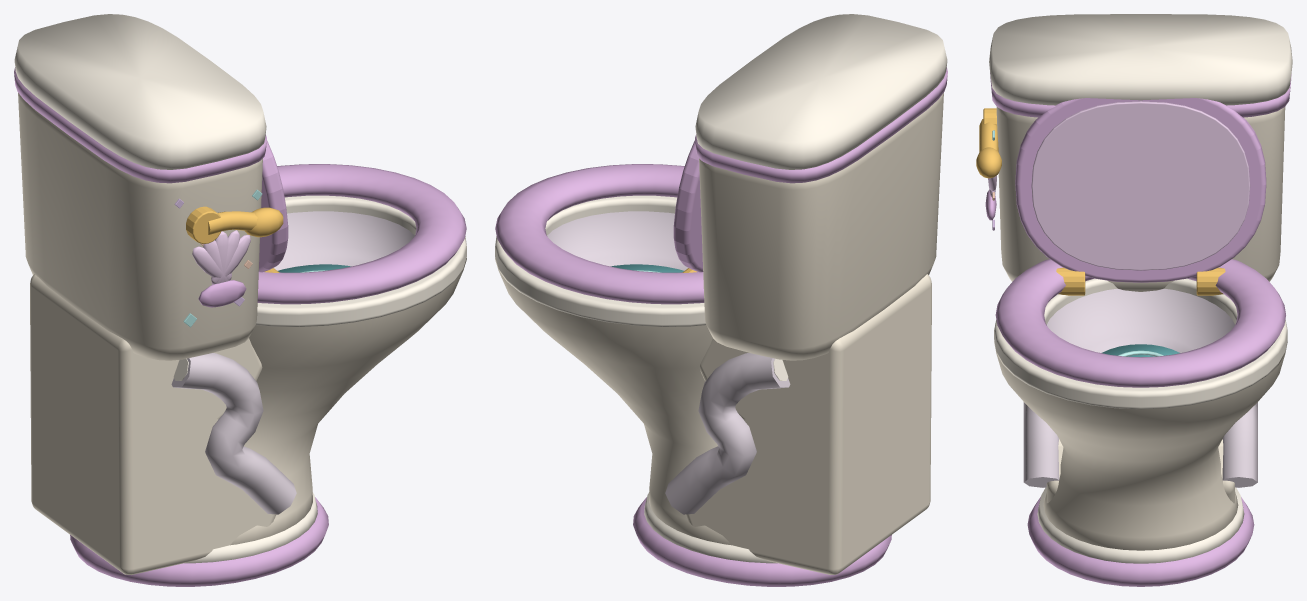
File: bathroom_toilet.glb
3 views of the same model, side by side, from view 1: azimuth 30°, elevation 25°; view 2: azimuth 150°, elevation 25°; view 3: azimuth 270°, elevation 25° (orthographic). The views are drawn at different scales.
Visible parts, largest first — view 1: ToiletPorcelain_Main, ToiletPorcelain_Trim, ToiletSeat_Main, ToiletPorcelain_Inner, ToiletMetal_Main, ToiletSeat_Detail; view 2: ToiletPorcelain_Main, ToiletPorcelain_Trim, ToiletSeat_Main, ToiletPorcelain_Inner; view 3: ToiletPorcelain_Trim, ToiletPorcelain_Main, ToiletSeat_Main, ToiletSeat_Detail, ToiletPorcelain_Inner, ToiletMetal_Main, ToiletWater_Main.
Boxes of the visible parts, x1,y1,x2,y2 form: ToiletPorcelain_Main: (18,93,466,574); ToiletPorcelain_Trim: (14,14,466,563); ToiletSeat_Main: (14,67,466,586); ToiletPorcelain_Inner: (171,211,414,514); ToiletMetal_Main: (186,206,283,272); ToiletSeat_Detail: (192,230,250,284); ToiletPorcelain_Main: (495,93,943,574); ToiletPorcelain_Trim: (495,14,947,563); ToiletSeat_Main: (495,67,947,586); ToiletPorcelain_Inner: (547,211,790,514); ToiletPorcelain_Trim: (989,14,1292,563); ToiletPorcelain_Main: (994,107,1287,550); ToiletSeat_Main: (985,73,1291,586); ToiletSeat_Detail: (988,101,1250,270); ToiletPorcelain_Inner: (1023,288,1257,487); ToiletMetal_Main: (976,108,1225,295); ToiletWater_Main: (1102,344,1179,357).
Size of the model in its own units: 4.2 by 5 by 3.13.
